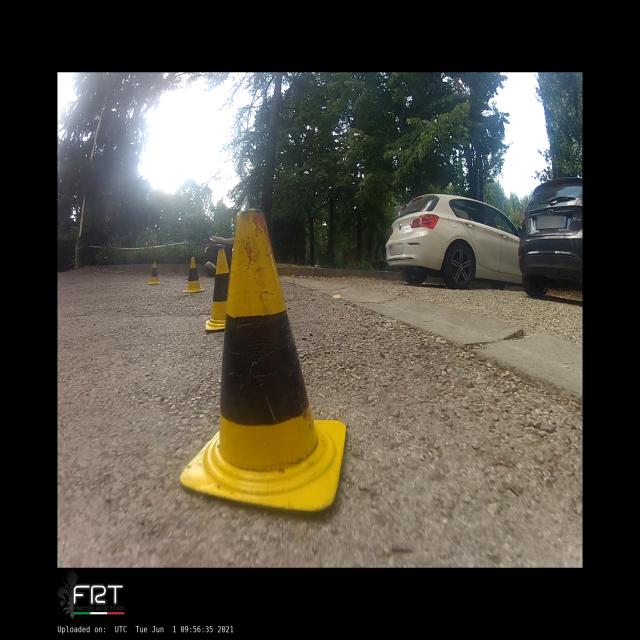yellow_cone: (180, 209, 346, 514), (205, 248, 230, 332), (182, 256, 205, 293), (148, 261, 161, 284)
